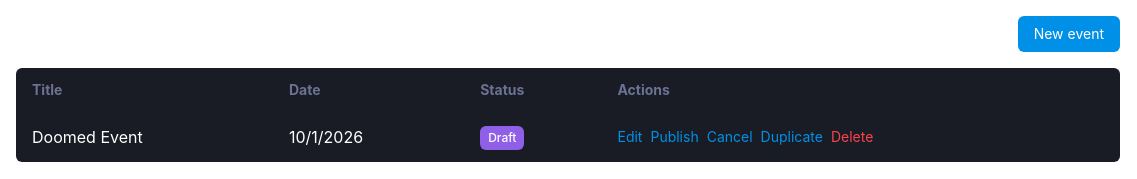
Test case: EventList › GIVEN the organizer confirms deletion WHEN clicking Delete THEN the event is removed from the list
expect the number of rows with test id "event-row" is 1: met, box [16,112,1120,162]
Click the button "Delete" at (852, 137), box [831,127,873,147]
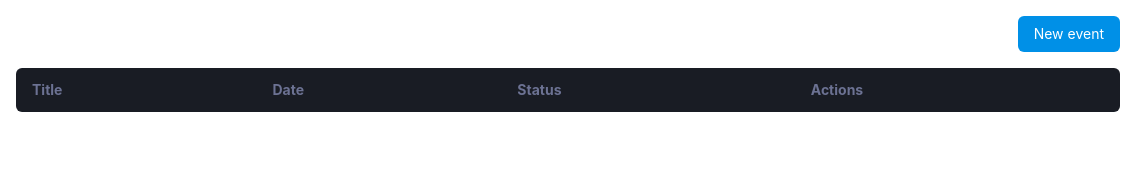
expect no rows with test id "event-row" are shown: met
